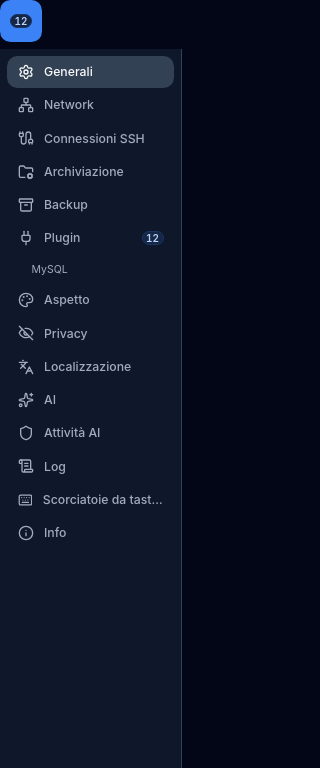
Test case: update navigation › bounds a long plugin list and closes the tooltip with Escape
Focus the button "Plugin 12" at coordinates (90, 238), box [7,222,174,254]
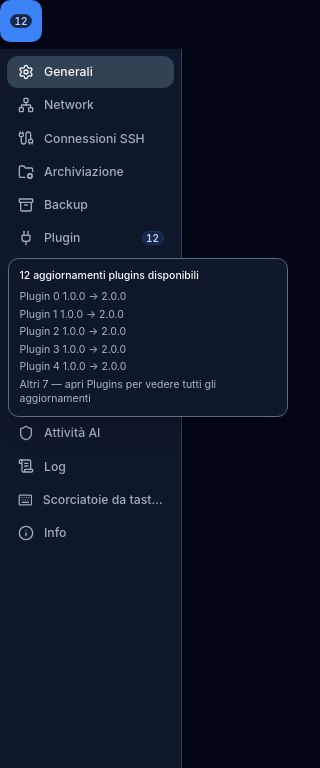
Result: the number of list items is 6 at [20,290,126,303]; [20,308,124,321]; [20,325,126,338]; [20,343,126,356]; [20,360,126,373]; [20,378,216,405]
Result: the tooltip shows "Plugin 4 1.0.0 → 2.0.0" at [20,360,126,373]
Result: the tooltip shows "Altri 7" at [20,378,216,405]
Press Escape in the button "Plugin 12", box [7,222,174,254]
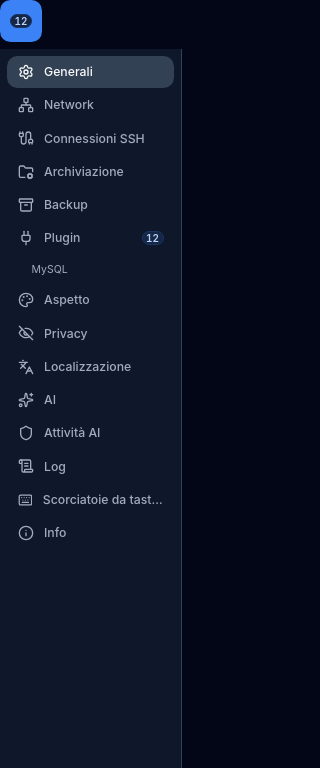
Result: the tooltip is gone
